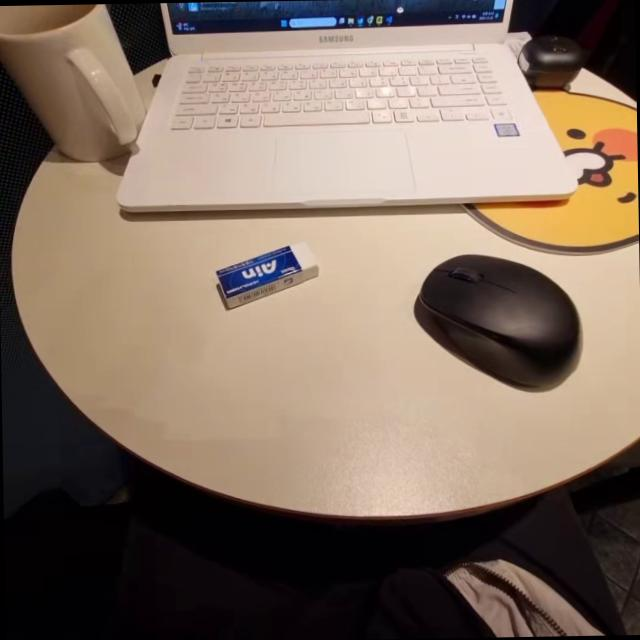eraser: (210, 235, 328, 322)
mouse: (411, 249, 598, 401)
